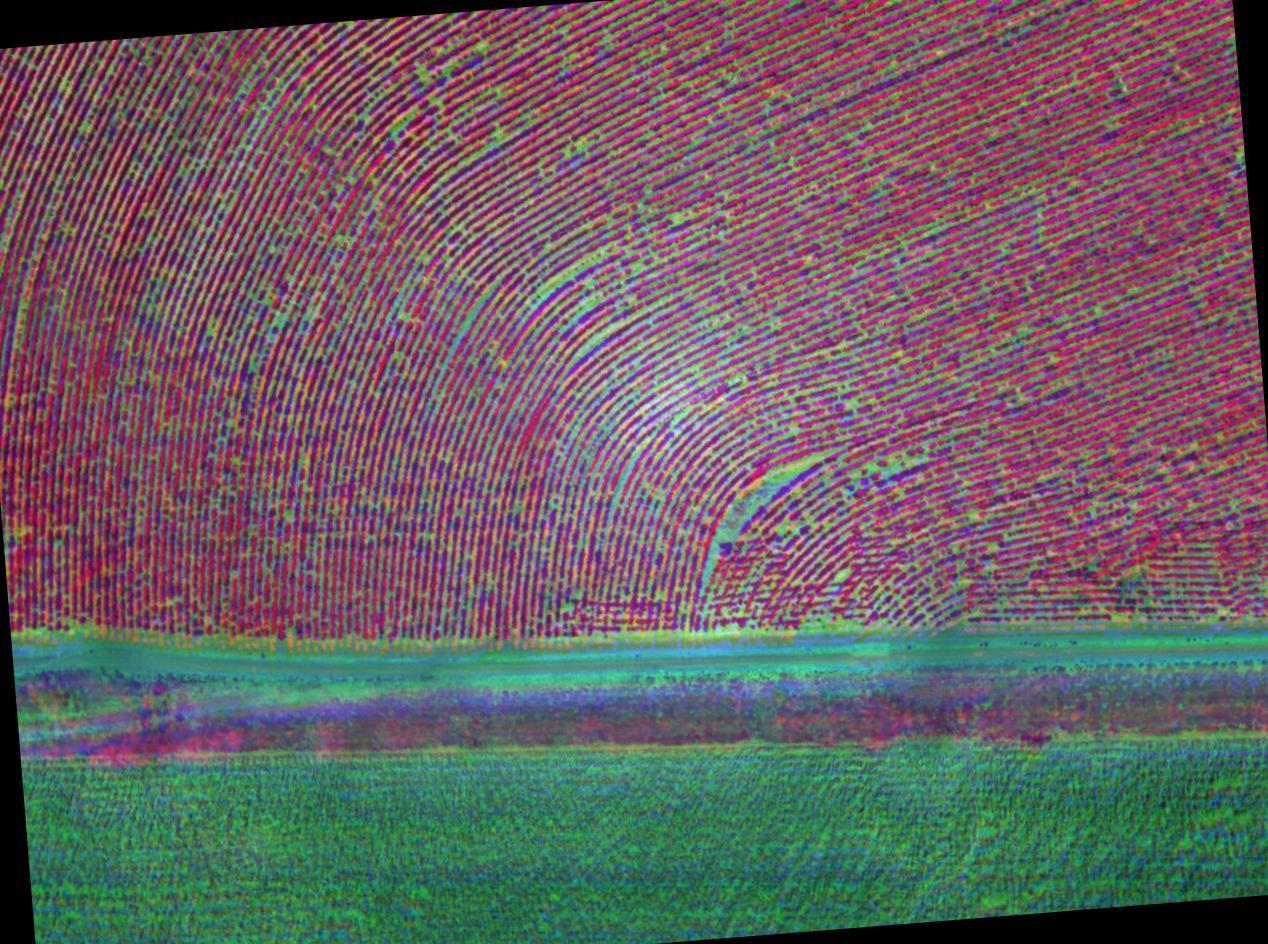dc: (381, 18, 506, 167), (701, 458, 830, 582), (176, 73, 293, 193), (143, 265, 287, 349), (701, 263, 792, 390), (536, 238, 624, 329)
